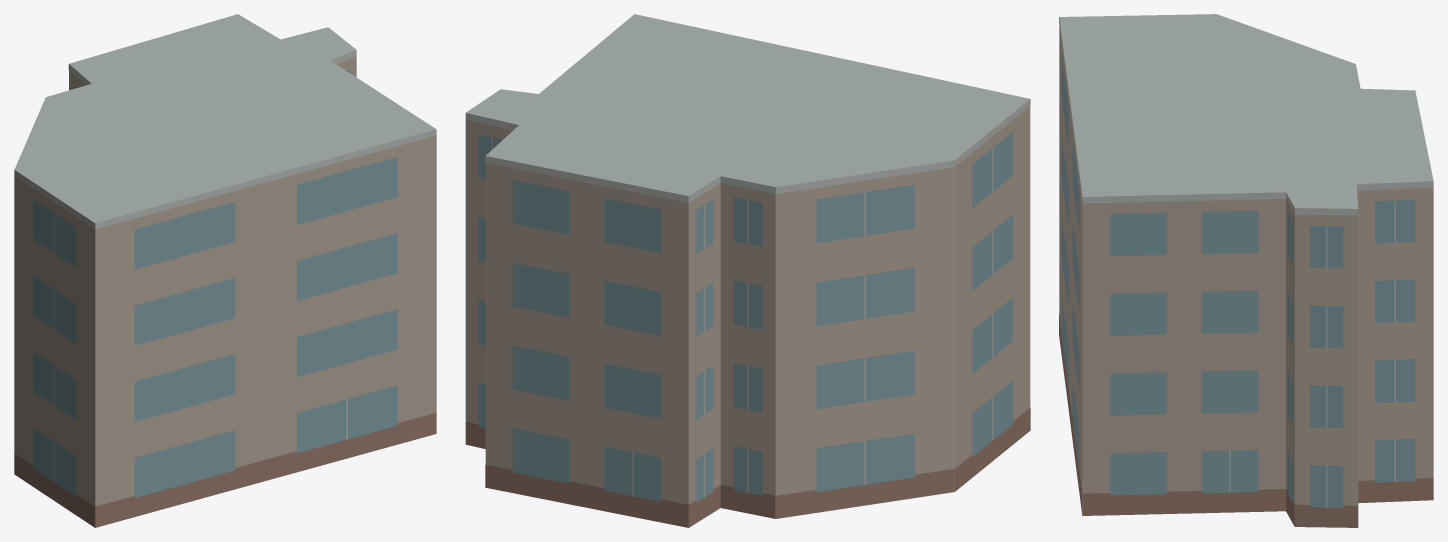
File: survey-upis-32489036.glb
The picture shows the model from 3 angles, left to right: view 1: azimuth 30°, elevation 25°; view 2: azimuth 150°, elevation 25°; view 3: azimuth 270°, elevation 25°; orthographic projection. The views are drawn at different scales.
Visible parts, largest first — view 1: survey-upis-32489036.tmp; view 2: survey-upis-32489036.tmp; view 3: survey-upis-32489036.tmp.
Part boxes in pixels (x1,y1,x2,y2): survey-upis-32489036.tmp: (14, 14, 436, 527); survey-upis-32489036.tmp: (465, 14, 1030, 527); survey-upis-32489036.tmp: (1059, 14, 1433, 527).
Bounding box in the file's own units: 15.61 × 11.9 × 12.67.
